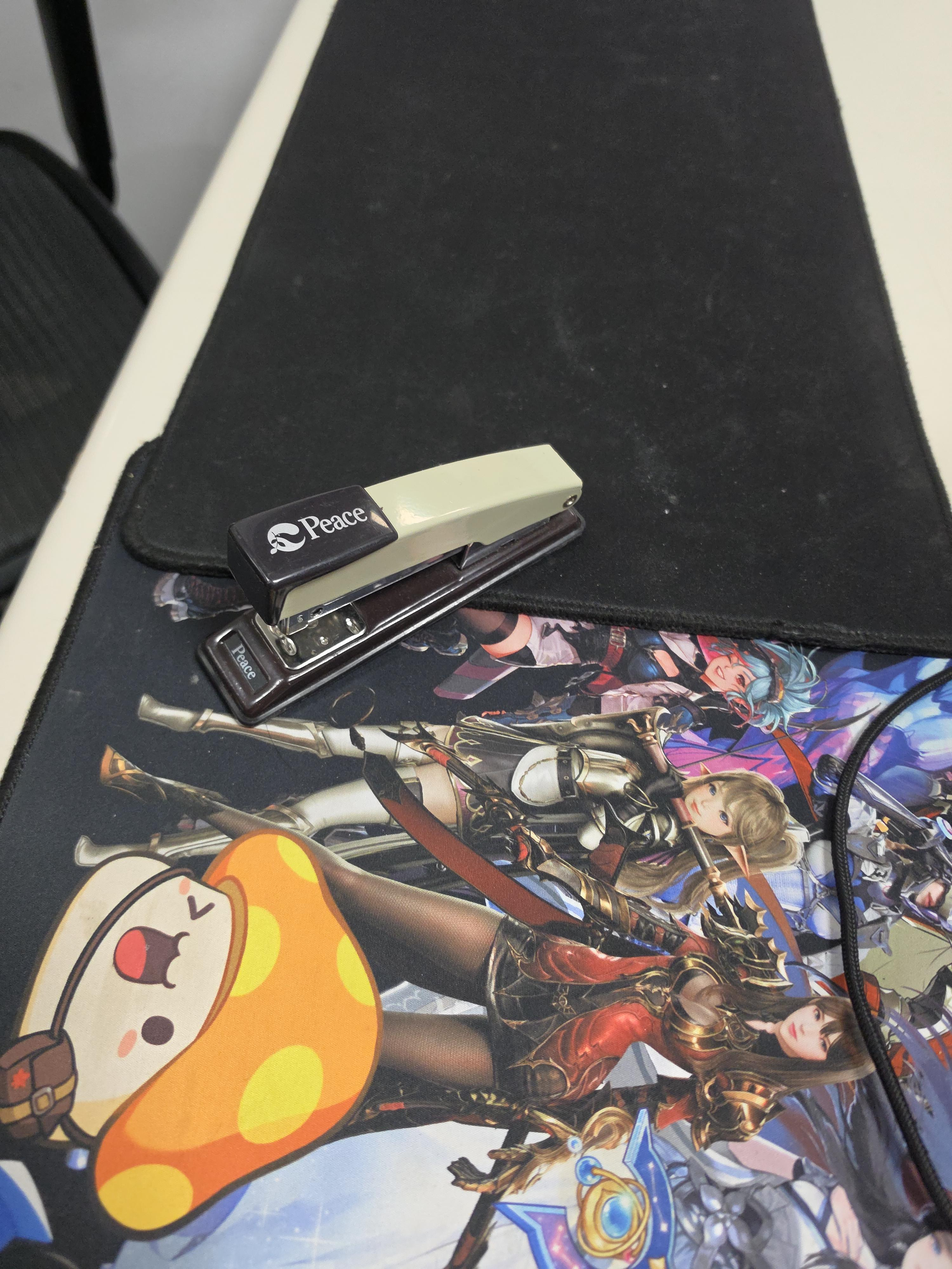stapler: (195, 443, 587, 726)
